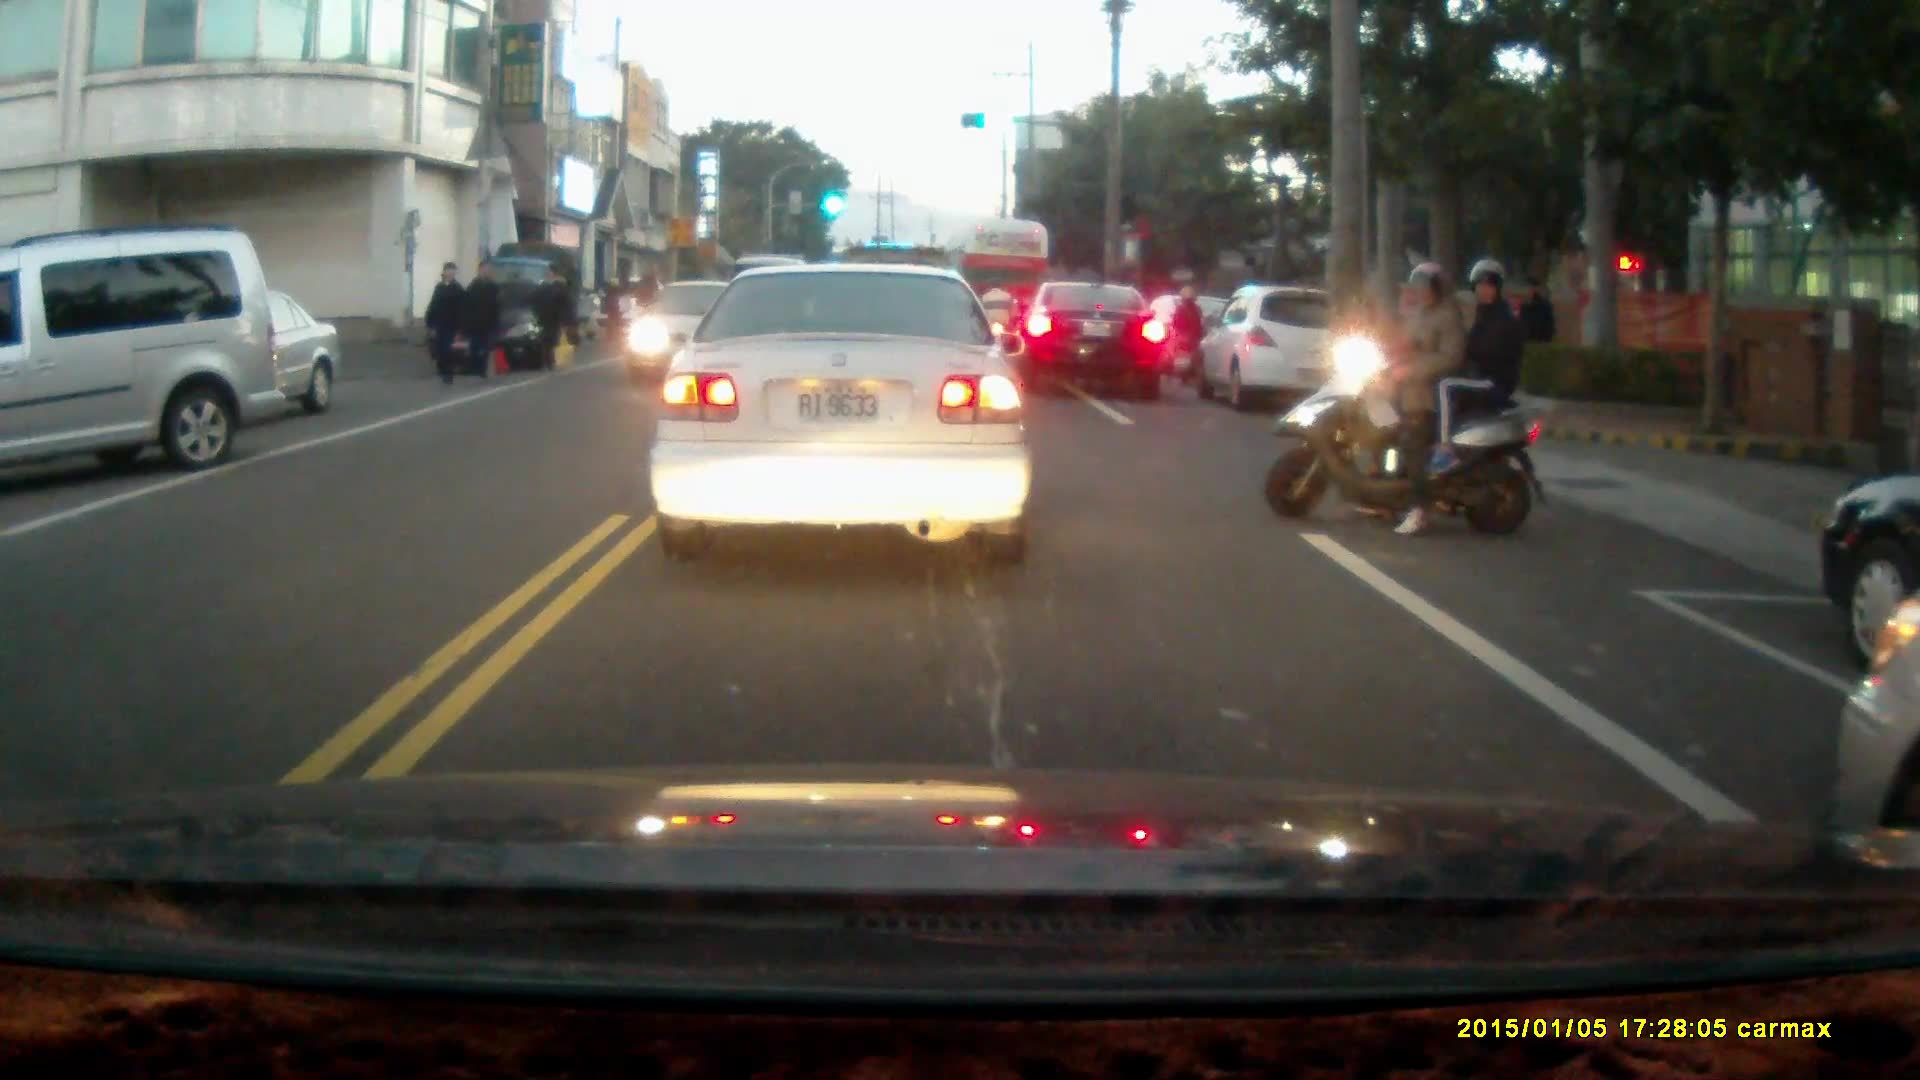pedestrian: (1508, 271, 1559, 392), (423, 263, 467, 388), (524, 264, 569, 373), (466, 259, 502, 379), (599, 260, 631, 350), (633, 261, 662, 345)
rider: (1263, 257, 1545, 539), (1168, 285, 1206, 389)
vehicle: (645, 262, 1038, 569), (1, 222, 270, 478), (77, 288, 343, 424), (1194, 284, 1376, 414), (1009, 282, 1170, 399), (628, 277, 770, 393), (946, 212, 1055, 356)
